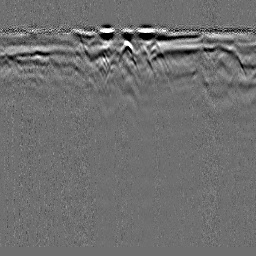cavity: (120, 36, 134, 59)
